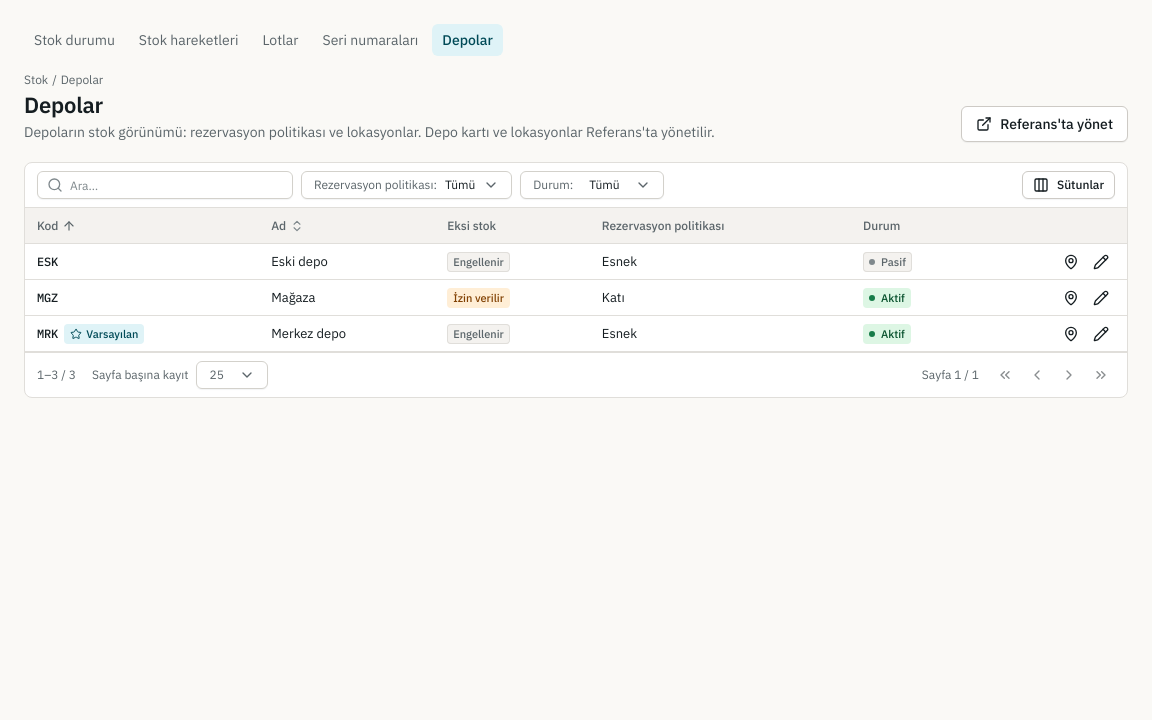
it: warehouses page › offers a reload when someone else changed the policy first
The width and height of the screenshot is (1152, 720).
Click the button named "MGZ rezervasyon politikasını değiştir" at (1101, 298), box [1087,284,1115,312]
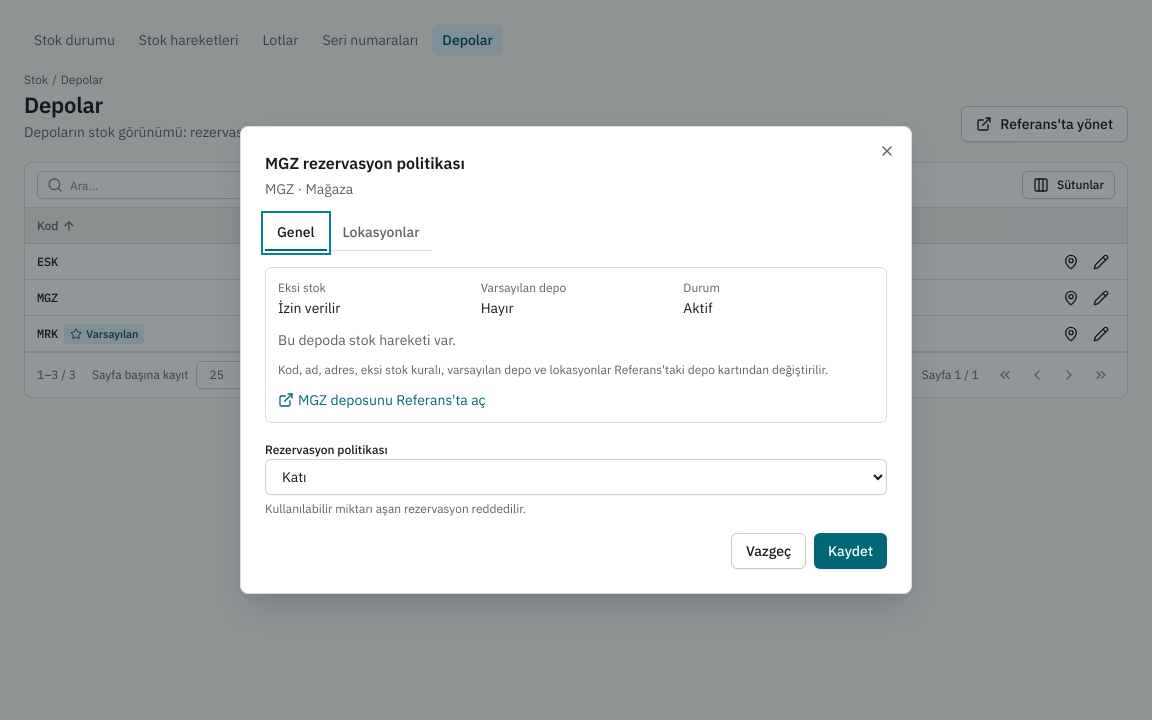
Select "Yok" in the dropdown labelled "Rezervasyon politikası" at (576, 477), box [265,459,887,495]
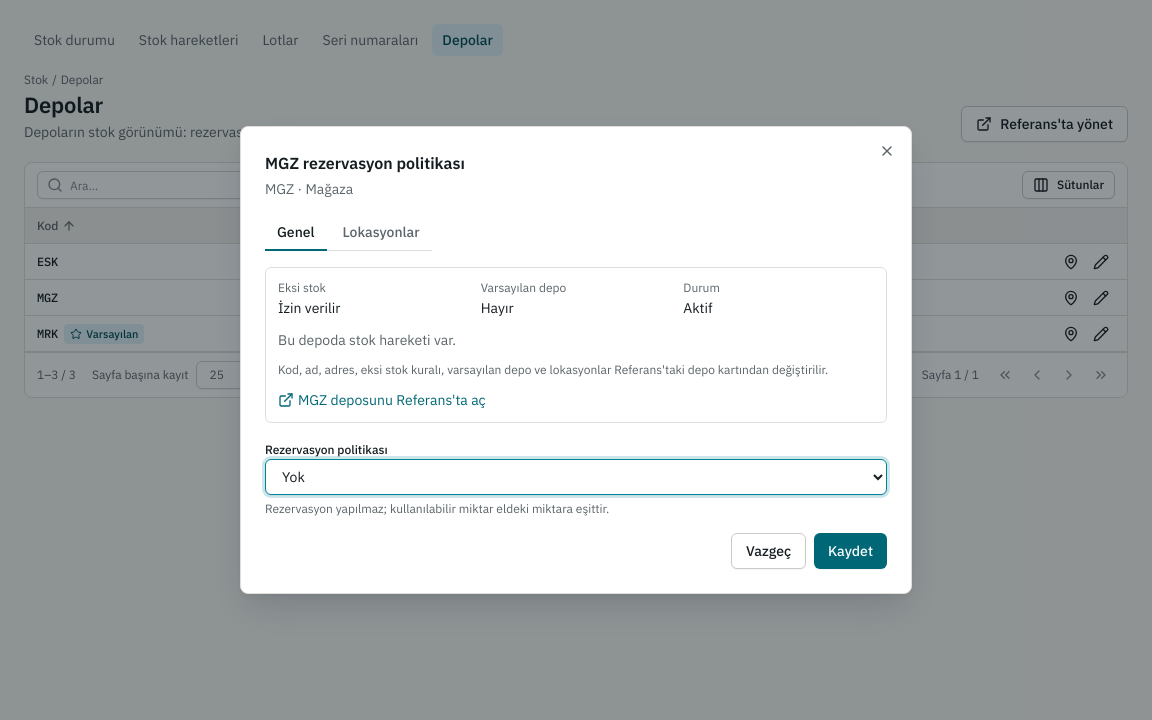
Click the button "Kaydet" at (851, 551), box [814,533,887,569]
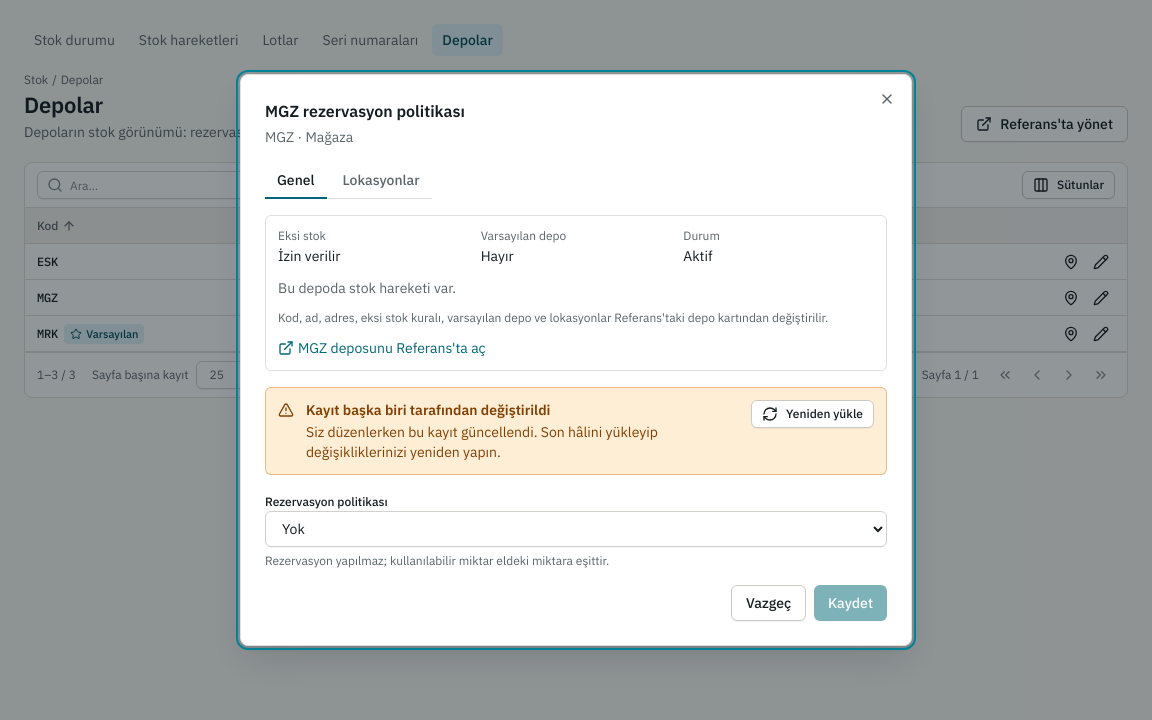
Expected: the text "Kayıt başka biri tarafından değiştirildi" is shown, [306,401,550,419]
Expected: the button "Kaydet" is disabled, [814,585,887,621]
Click the button "Yeniden yükle" at (813, 414), box [751,400,874,428]
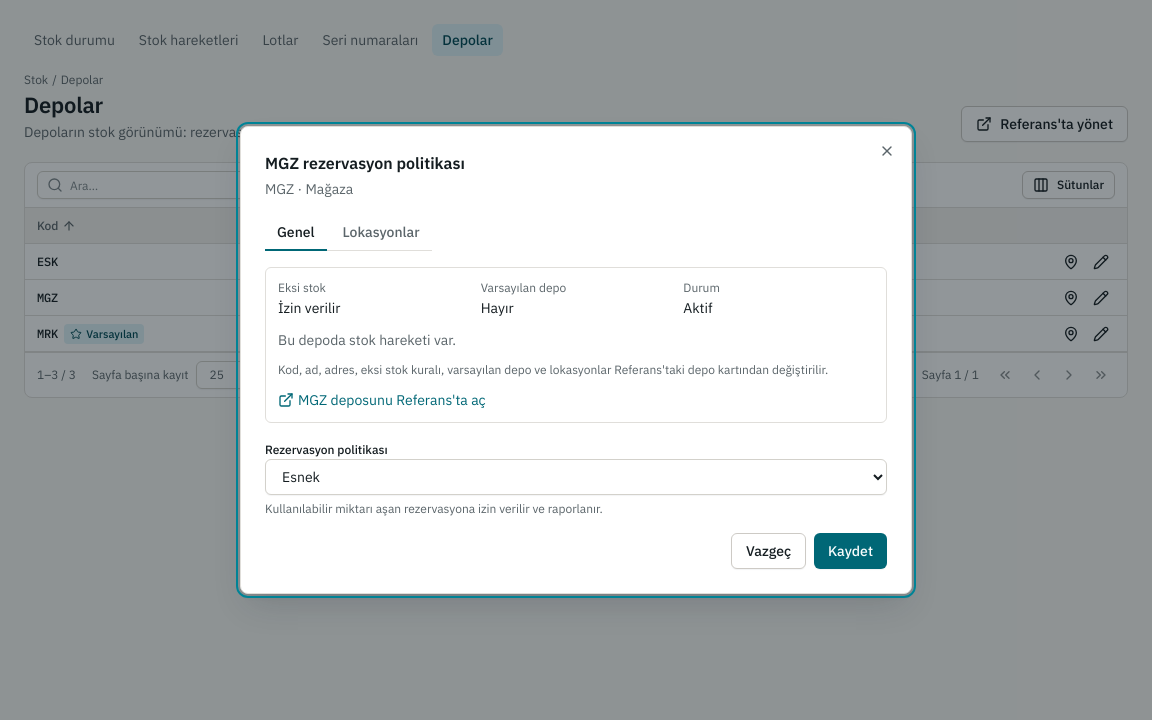
Click the button "Kaydet" at (851, 551), box [814,533,887,569]
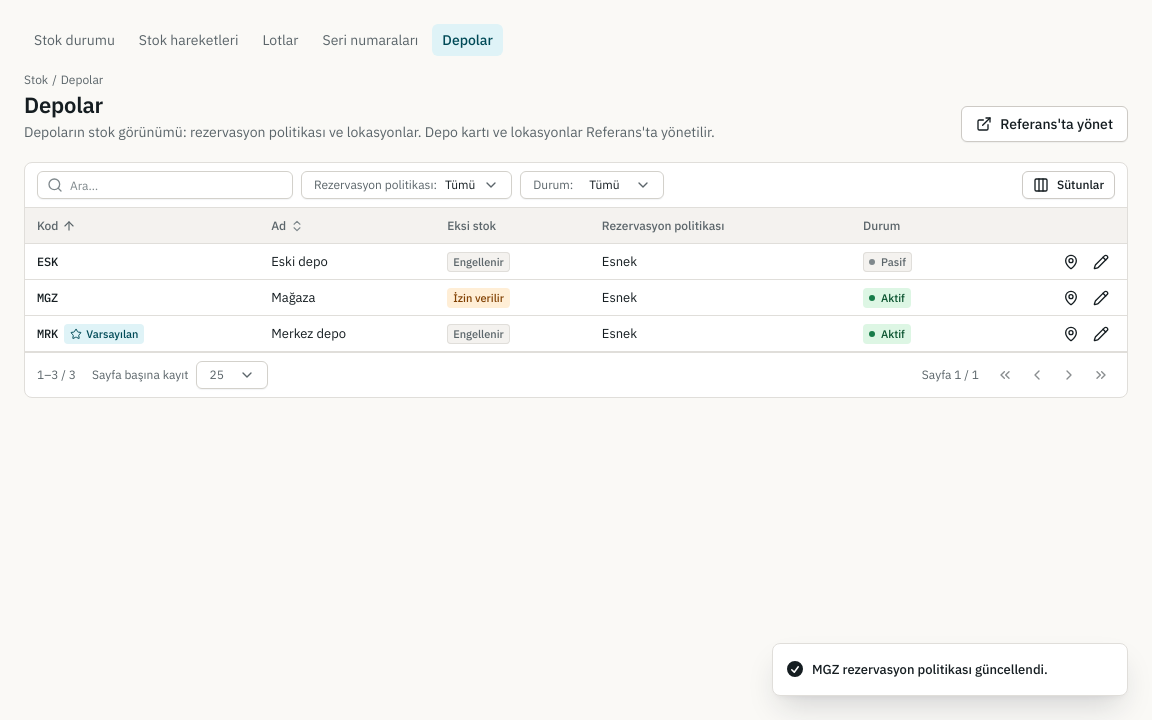
Expected: the dialog is gone
